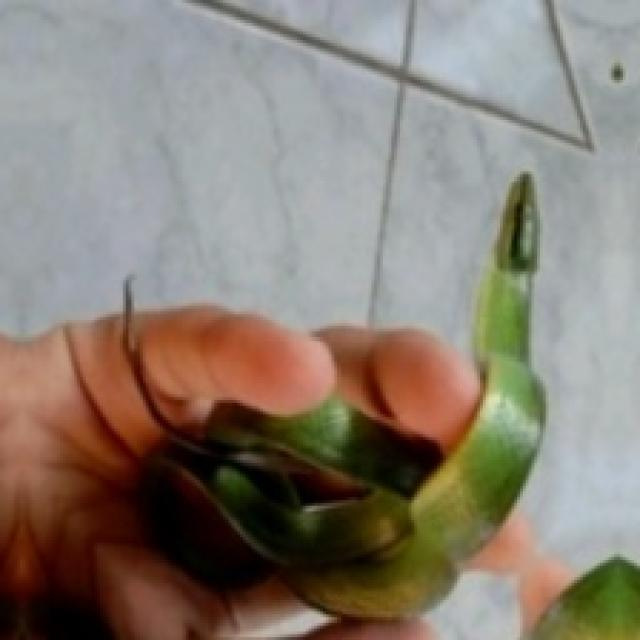red-tailed green ratsnake: (129, 174, 543, 617)
